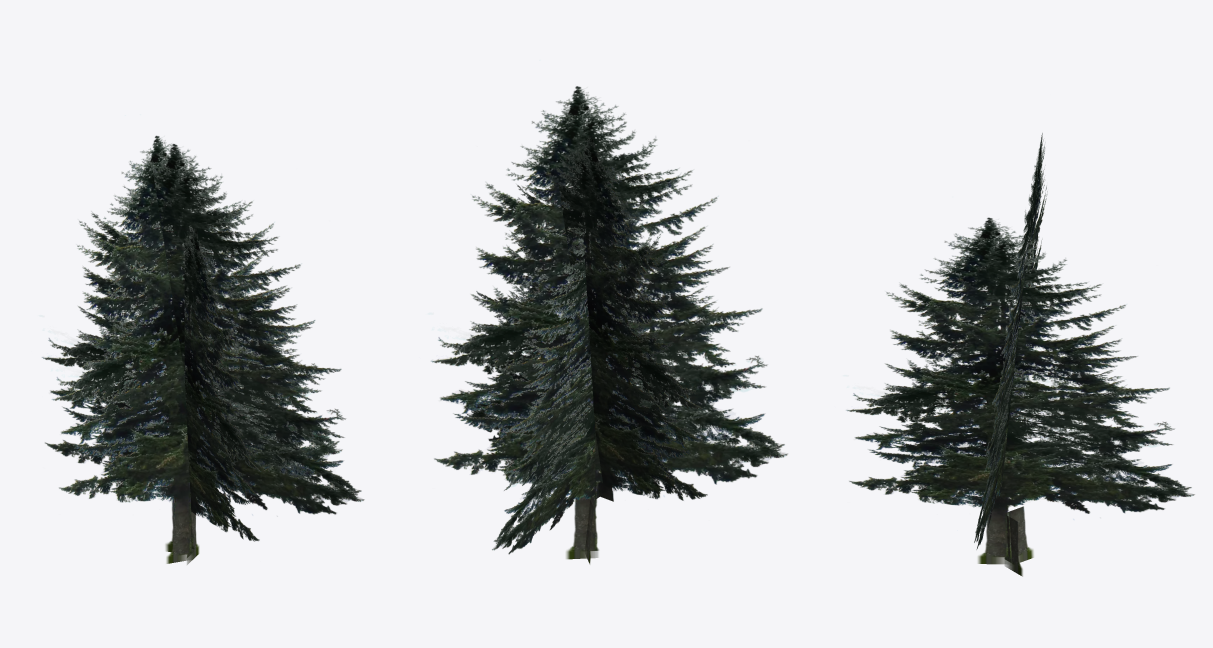
Rendered from trees_and_bush_pack_pine2.glb.
The picture shows the model from 3 angles, left to right: view 1: azimuth 30°, elevation 25°; view 2: azimuth 150°, elevation 25°; view 3: azimuth 270°, elevation 25°; orthographic projection. The views are drawn at different scales.
Visible parts, largest first — view 1: Pine2; view 2: Pine2; view 3: Pine2.
Part boxes in pixels (box(x1,y1,x2,y2)): Pine2: box(42, 135, 364, 564); Pine2: box(431, 86, 787, 563); Pine2: box(846, 133, 1194, 576).
Bounding box in the file's own units: 8.17 × 13.1 × 9.28.
Materials: 2 (2 with a texture image).
